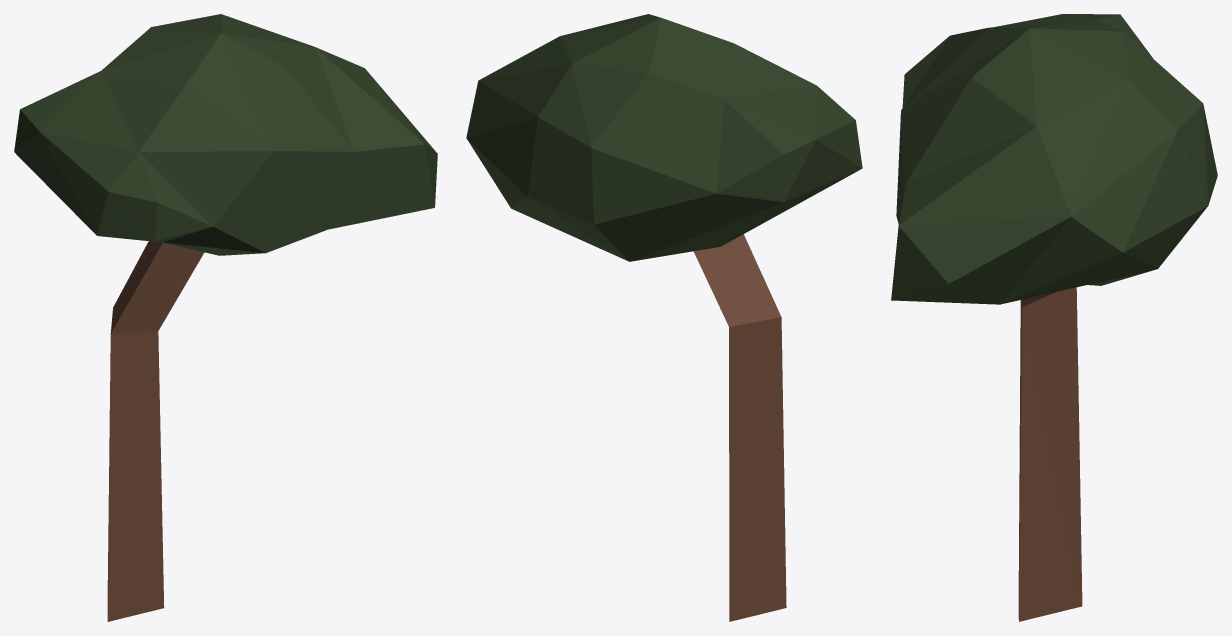
File: CityPlant1.fbx
3 views of the same model, side by side, from view 1: azimuth 30°, elevation 25°; view 2: azimuth 150°, elevation 25°; view 3: azimuth 270°, elevation 25° (orthographic). The views are drawn at different scales.
Visible parts, largest first — view 1: CityPlant1; view 2: CityPlant1; view 3: CityPlant1.
Boxes of the visible parts, bbox=[...] form: CityPlant1: bbox=[14, 14, 437, 621]; CityPlant1: bbox=[466, 14, 862, 621]; CityPlant1: bbox=[891, 14, 1217, 621].
Bounding box in the file's own units: 39.52 × 60.47 × 28.53.
